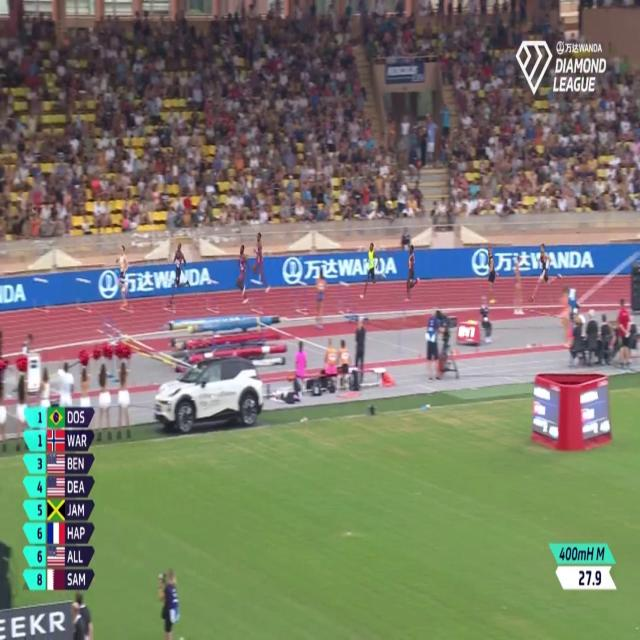athlete: (528, 233, 562, 307), (359, 235, 389, 300), (403, 233, 422, 307), (482, 239, 500, 312), (171, 236, 188, 304), (235, 234, 250, 309), (253, 228, 271, 290), (115, 243, 131, 310)
hurdle: (31, 272, 51, 317), (158, 276, 178, 318), (74, 276, 93, 318), (334, 280, 354, 318), (206, 276, 220, 323), (248, 276, 264, 316), (121, 277, 136, 319), (294, 277, 308, 319)
